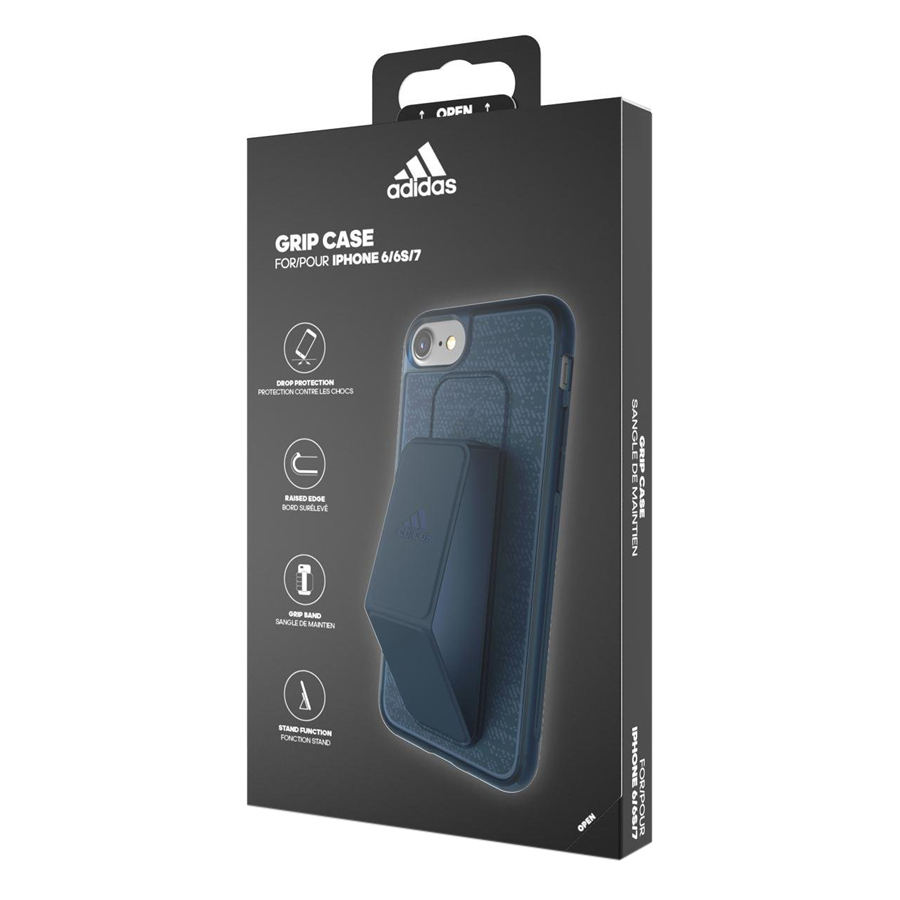Adidas: (382, 132, 462, 204)
